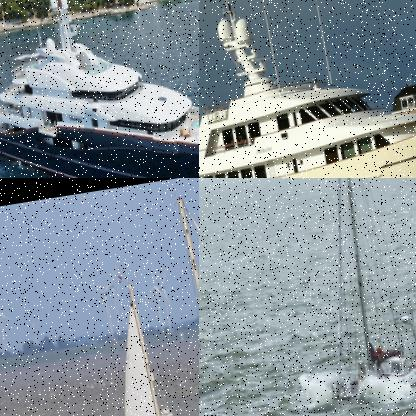Sails Boat: (48, 178, 198, 415), (283, 178, 415, 409)
Yacht: (199, 0, 415, 177), (0, 0, 198, 177)
